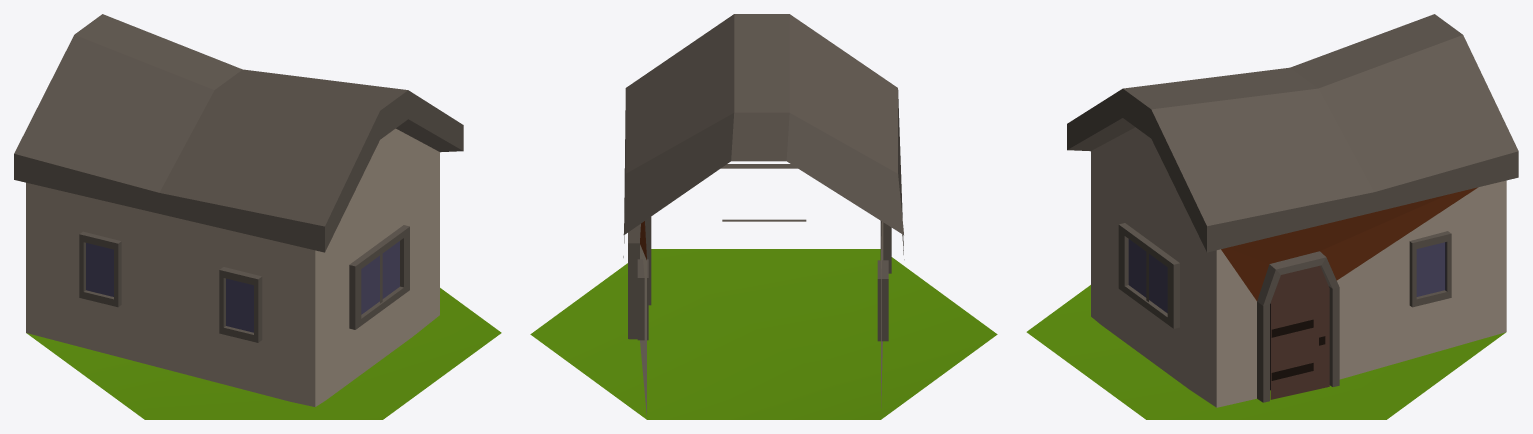
File: HexEdged.glb
3 renders of one model, left to right at view 1: azimuth 30°, elevation 25°; view 2: azimuth 150°, elevation 25°; view 3: azimuth 270°, elevation 25°, orthographic. The views are drawn at different scales.
Visible parts, largest first — view 1: House_P1; view 2: House_P1; view 3: House_P1.
Part boxes in pixels (x1,y1,x2,y2): House_P1: (14,14,501,419); House_P1: (530,14,997,419); House_P1: (1026,14,1518,419).
Size of the model in its own units: 1.82 by 1.27 by 2.05.
